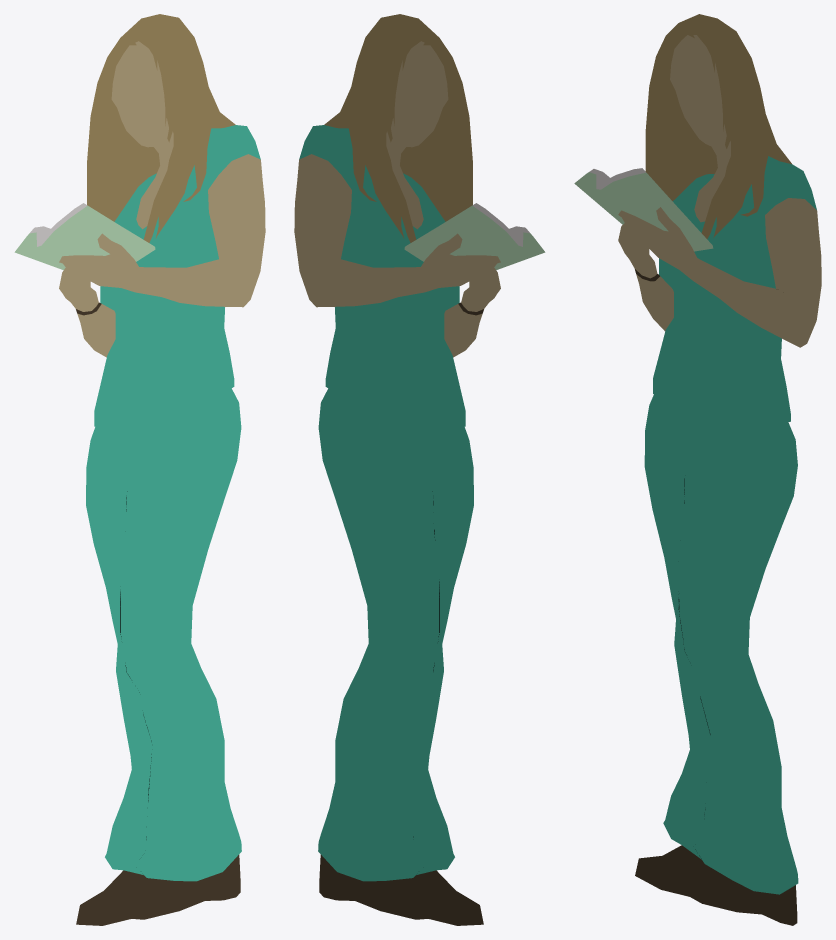
The model's file is 2D_Woman_Standing_Book-scrubs.fbx.
3 views of the same model, side by side, from view 1: azimuth 30°, elevation 25°; view 2: azimuth 150°, elevation 25°; view 3: azimuth 330°, elevation 25° (orthographic).
Visible parts, largest first — view 1: Mesh01; view 2: Mesh01; view 3: Mesh01.
Part boxes in pixels (x1=…): Mesh01: x1=14, y1=14, x2=265, y2=925; Mesh01: x1=294, y1=14, x2=545, y2=925; Mesh01: x1=574, y1=14, x2=821, y2=925.
Size of the model in its own units: 29.14 by 100 by 5.06e-14.
